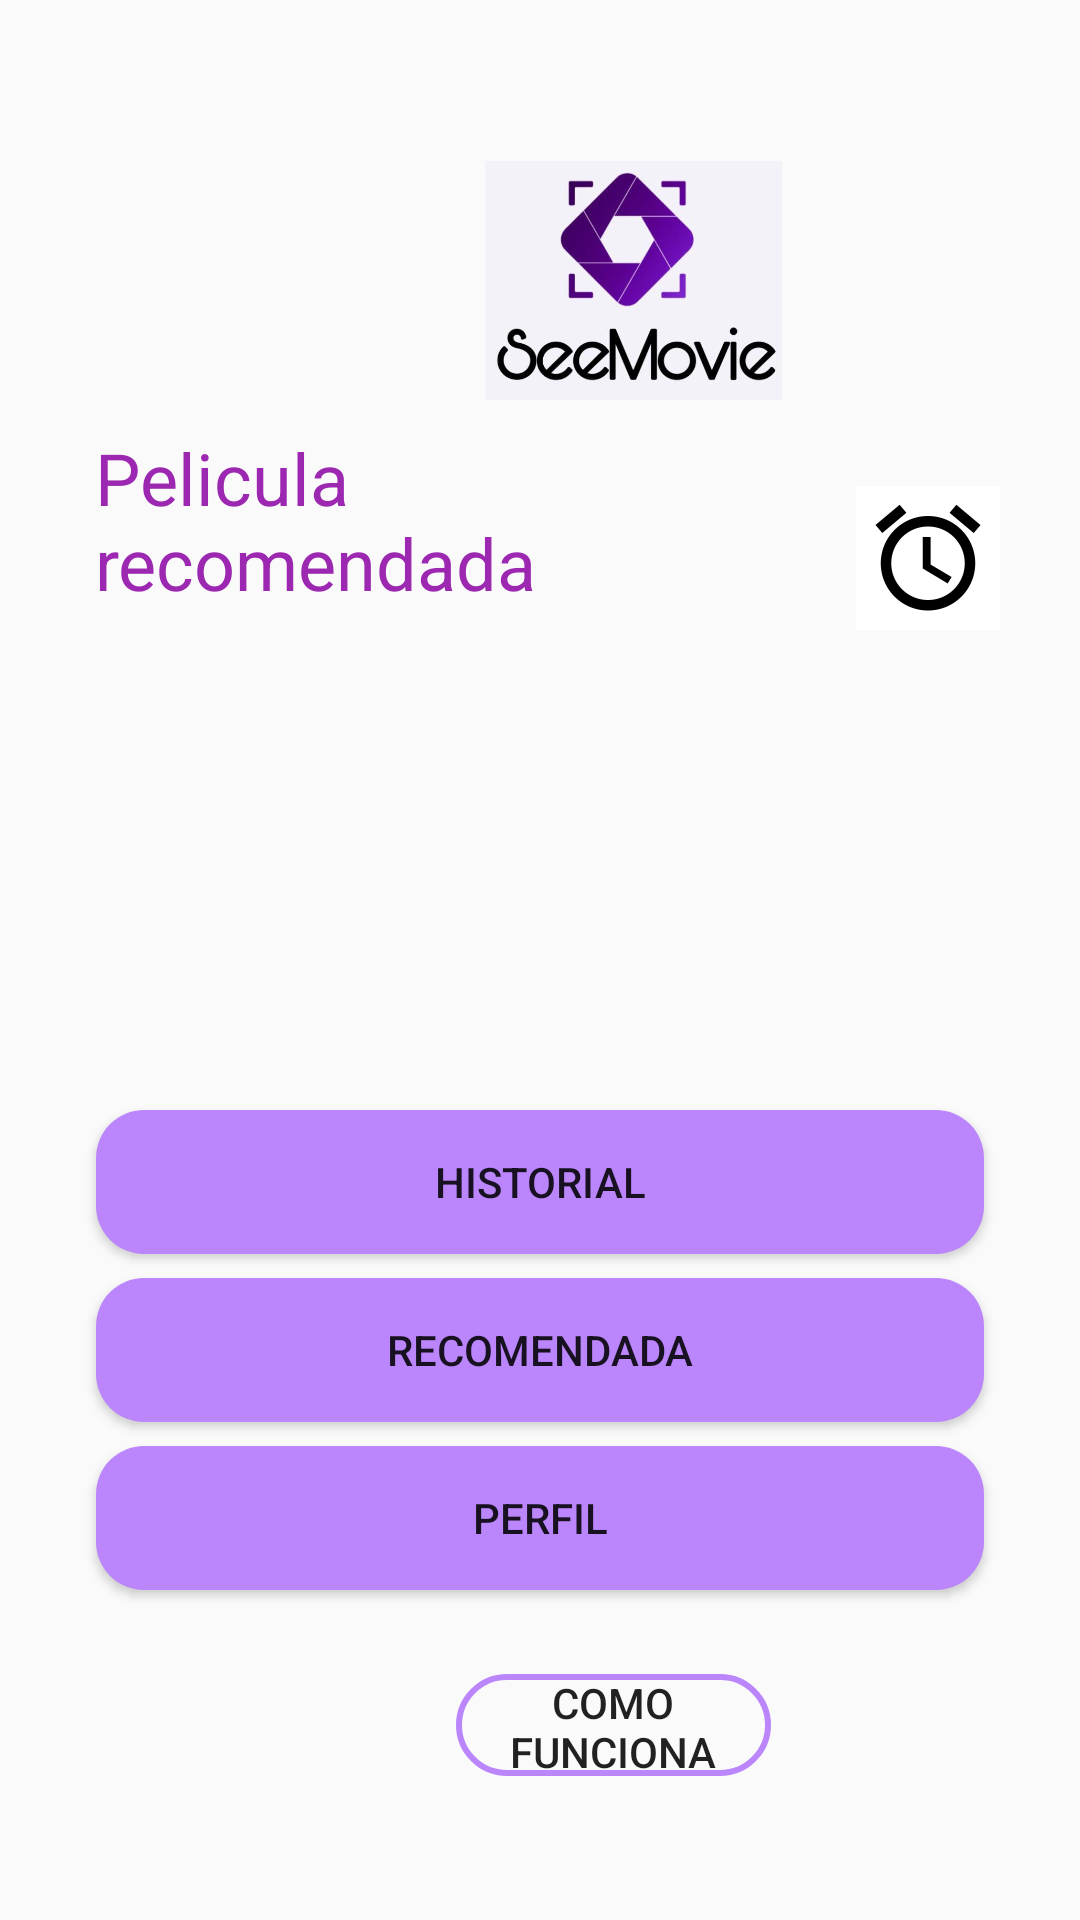

Named icons in this screenshot (1080w x 1920h) and their bounding boxes, (left=x1, top=y1, right=x2, bottom=y2):
alarm: (left=875, top=505, right=981, bottom=611)
